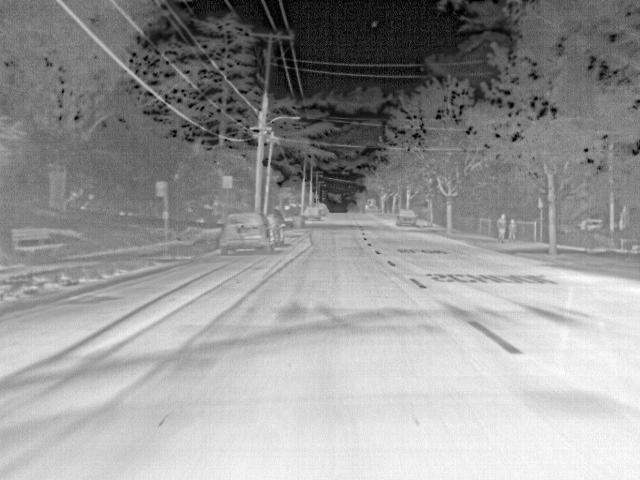car: (221, 211, 270, 258), (264, 214, 285, 248), (305, 204, 324, 222), (397, 209, 417, 225)
person: (495, 213, 509, 241), (509, 218, 518, 240)
